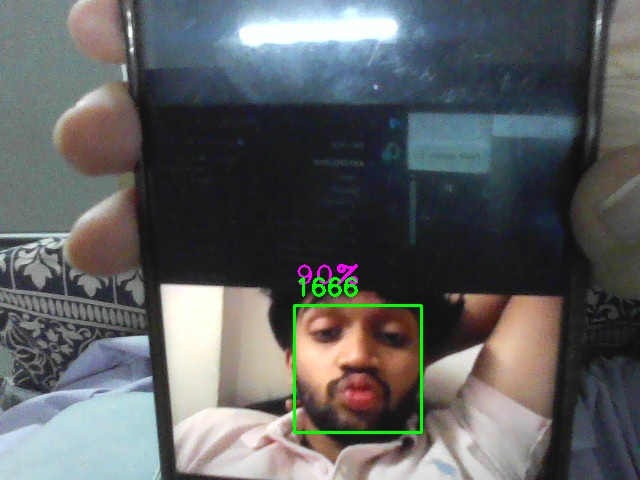fake: (294, 305, 422, 433)
